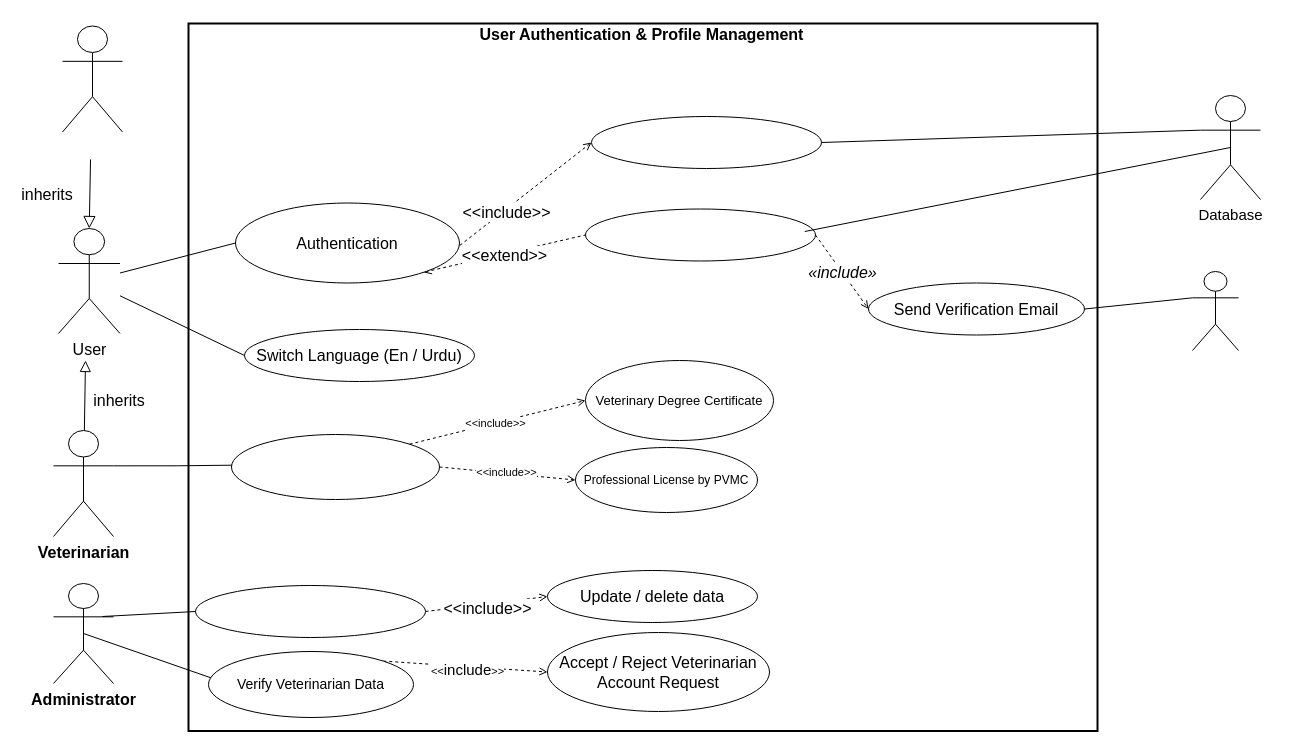
The diagram is 1307 pixels wide and 749 high, and some of its shapes have lost their labels. Each missing label, with the centre of its shape:
Email Verification Api: the point at 1215,310
Livestock Owner: the point at 92,78
Login: the point at 706,142
Manage Profile: the point at 310,611
Register Account: the point at 700,234
Send Documents: the point at 335,467
